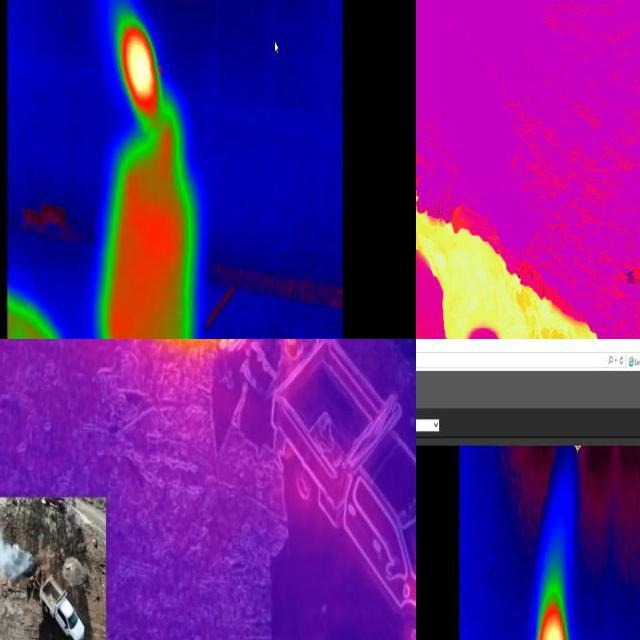fire: (417, 210, 601, 340), (116, 12, 161, 124), (537, 583, 570, 640)
